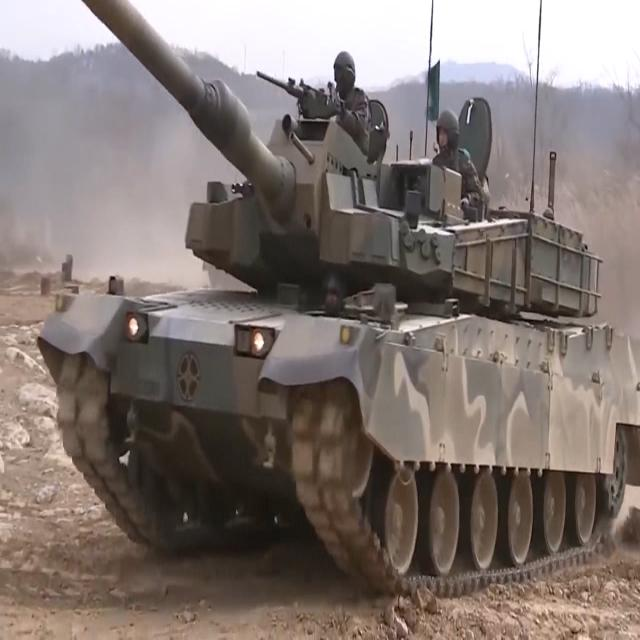korea tank: (34, 1, 640, 600)
